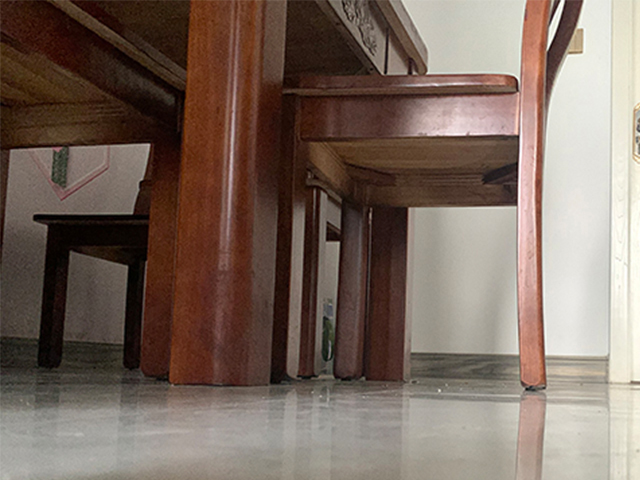stool: (278, 1, 584, 393)
